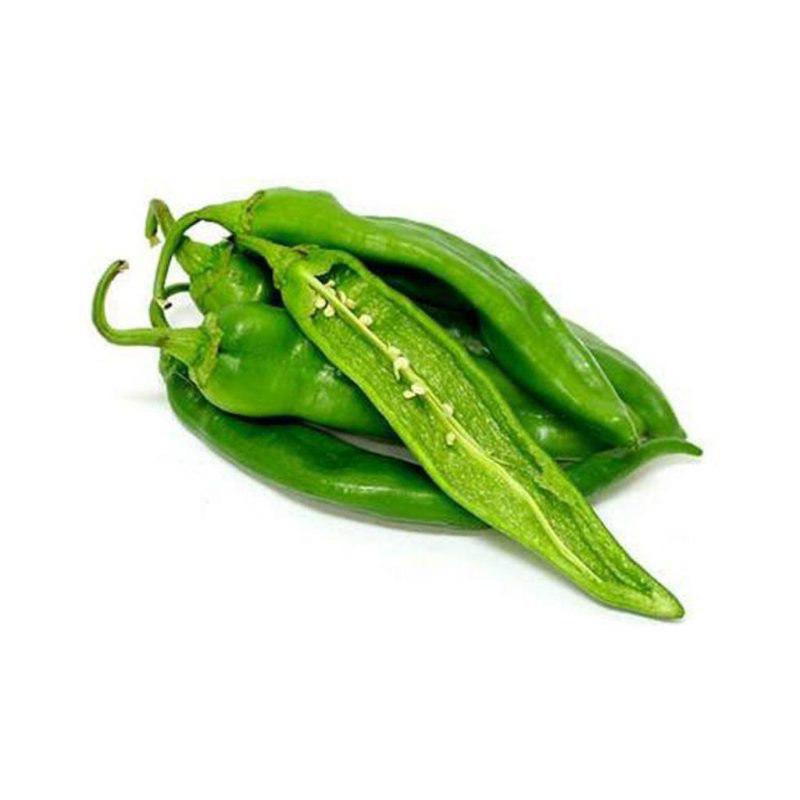lada hijau: (253, 230, 681, 626), (238, 173, 655, 451), (171, 367, 479, 562), (174, 313, 389, 445)
